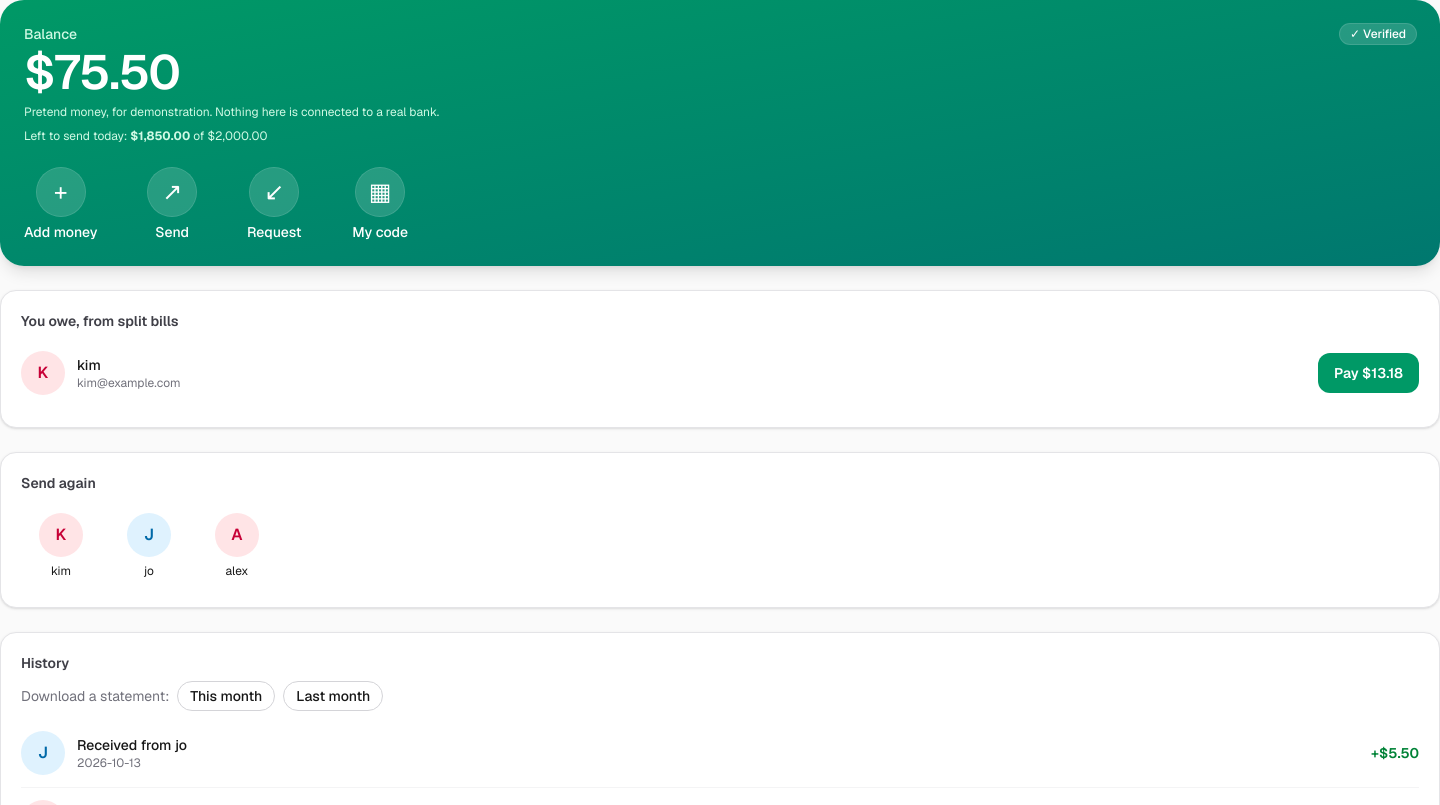
Test case: one tap pays the debt from the wallet
The image size is (1440, 805).
Click the button "Pay $13.18": (1369,373) [1318,353,1419,393]
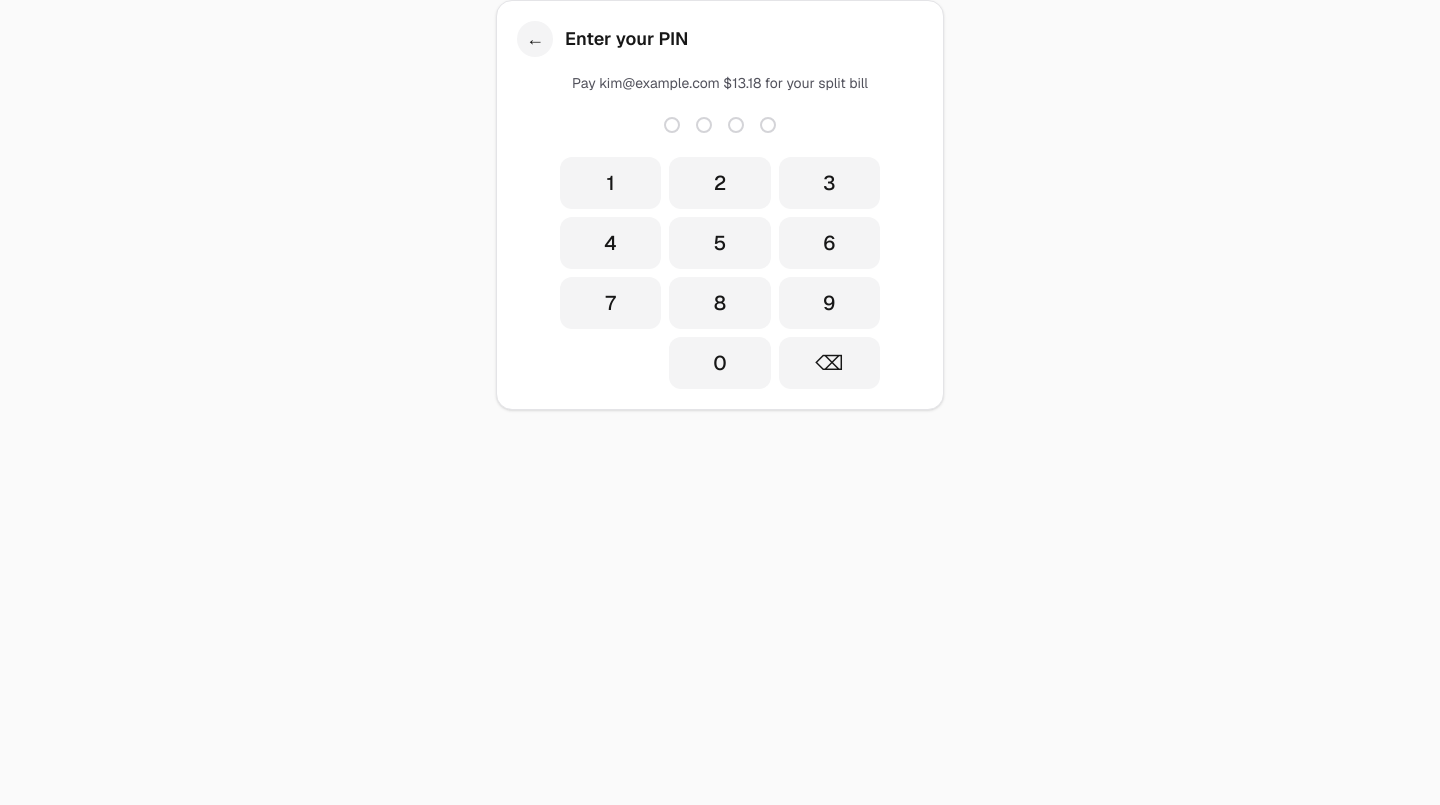
Click the button "4": (611,243) [560,217,661,269]
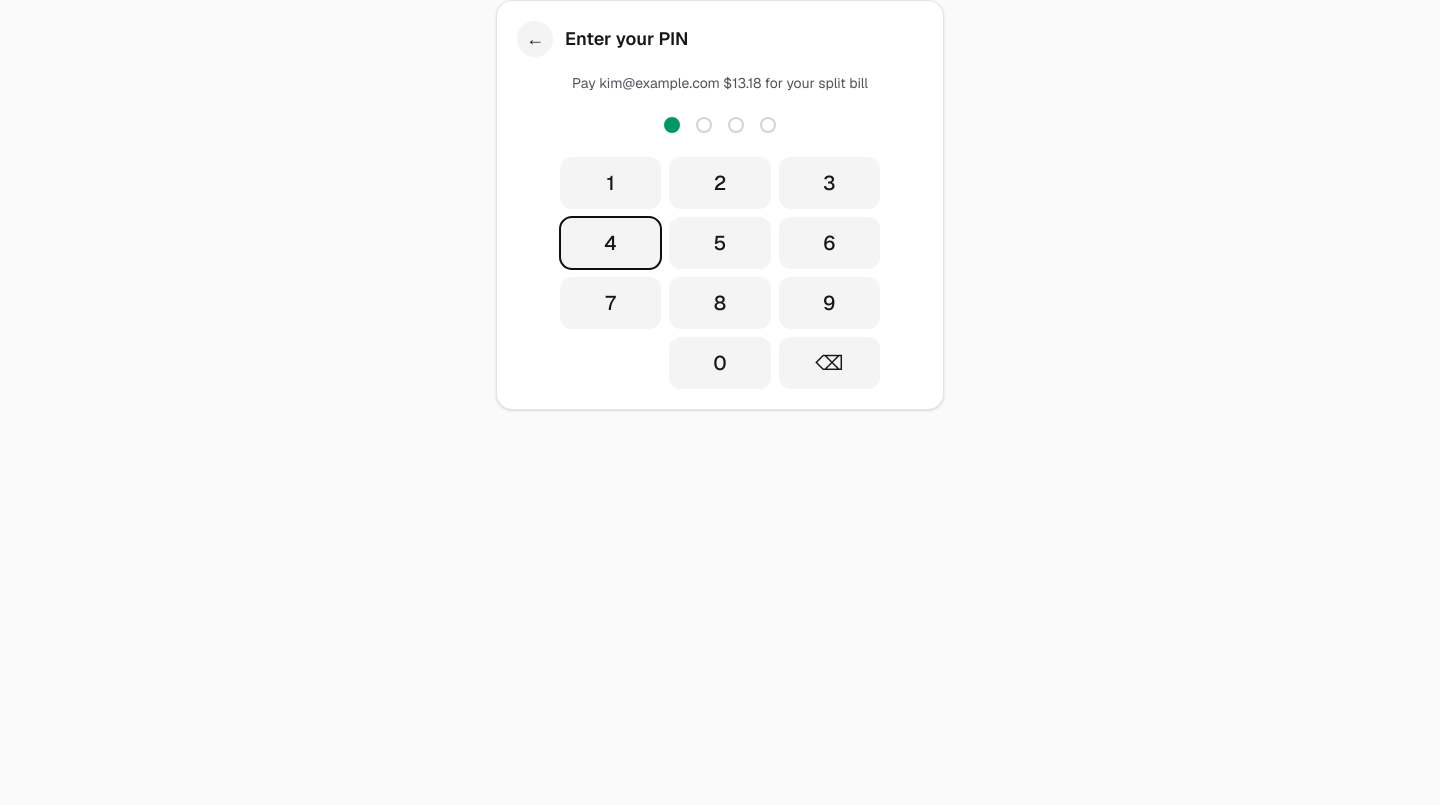
Click the button "8": (720,303) [669,277,771,329]
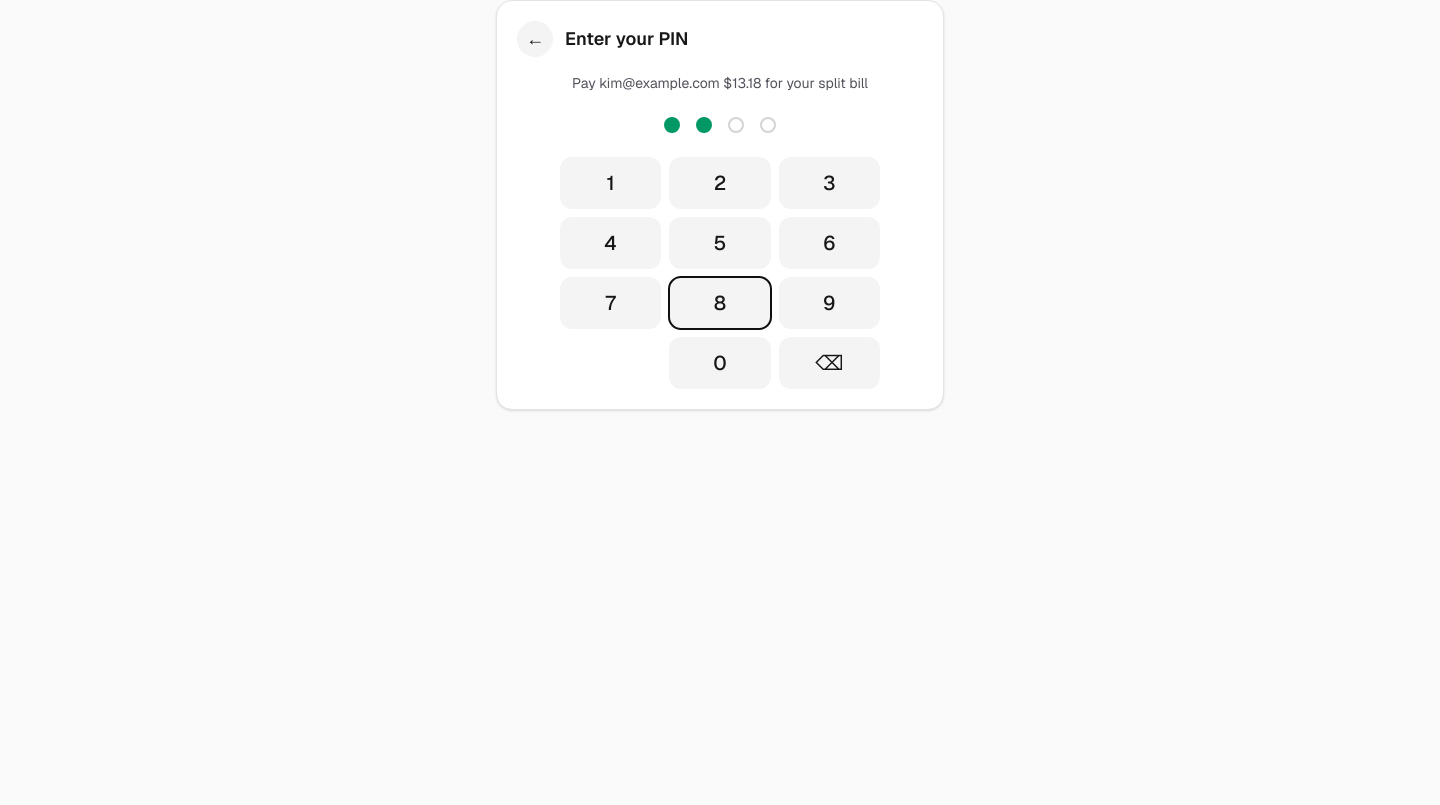
Click the button "2": (720,183) [669,157,771,209]
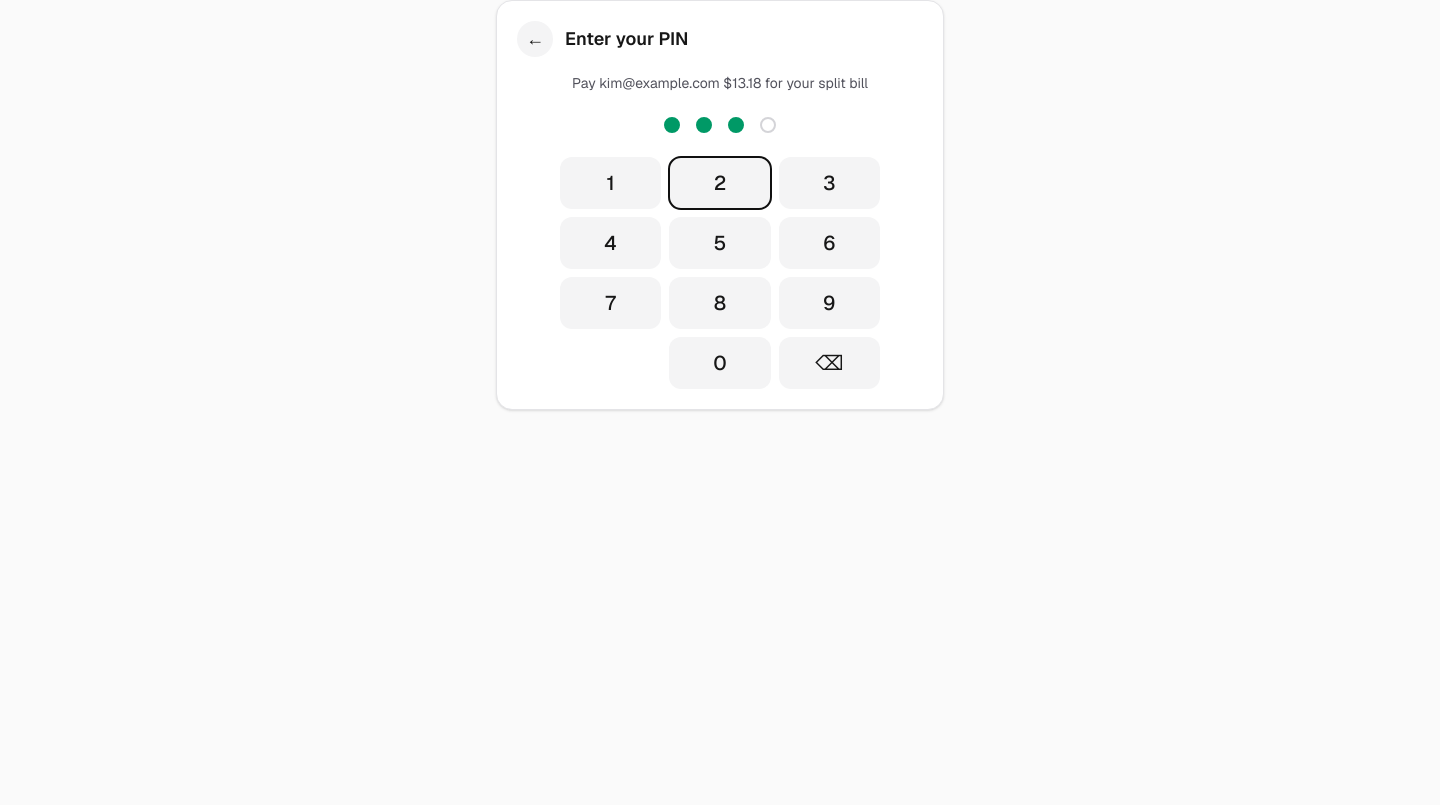
Click the button "6": (829,243) [779,217,880,269]
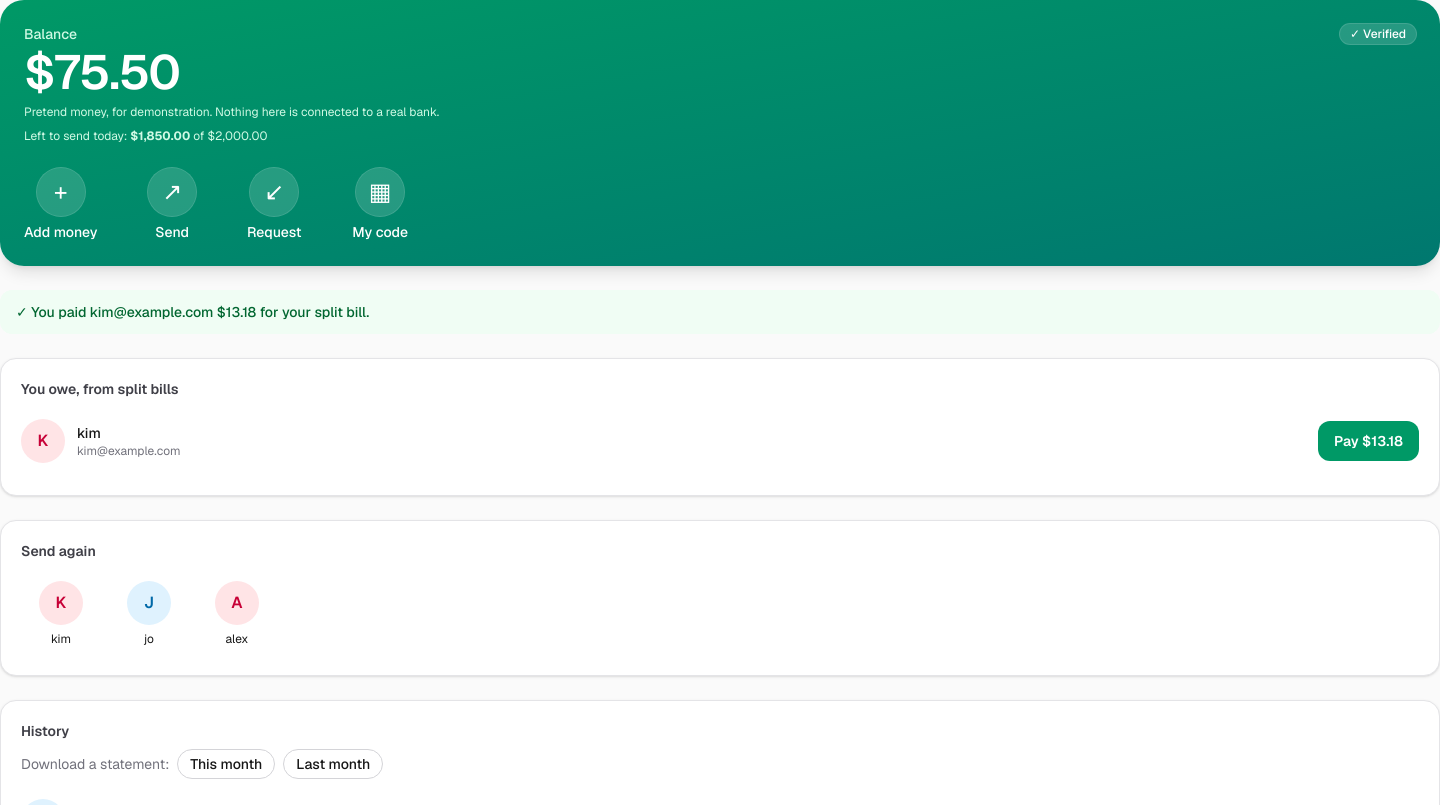
Result: the message shows "You paid kim@example.com $13.18 for your split bill." at [31,303,369,321]
